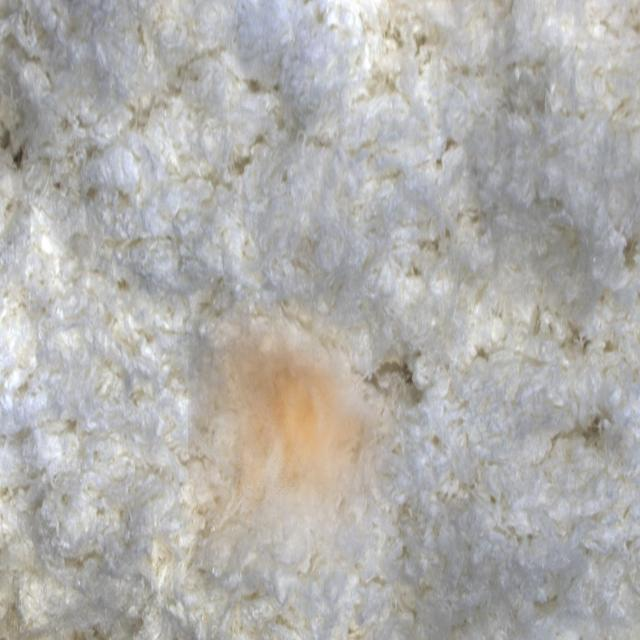dust: (188, 299, 402, 571)
